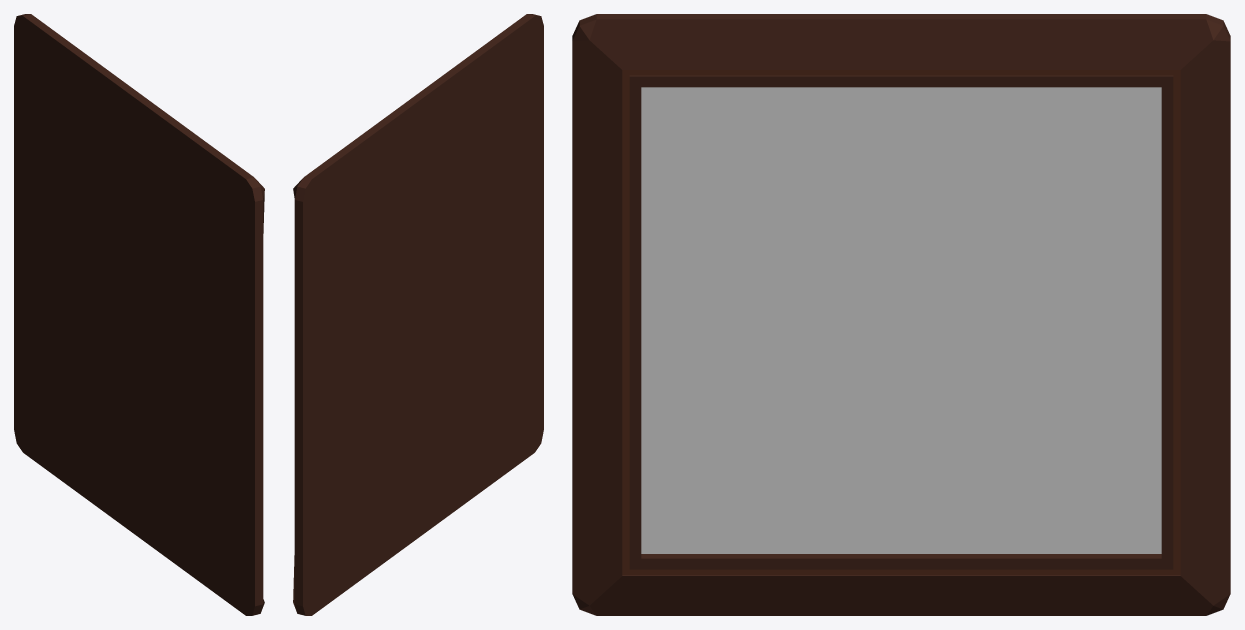
Rendered from Frame.fbx.
The picture shows the model from 3 angles, left to right: view 1: azimuth 30°, elevation 25°; view 2: azimuth 150°, elevation 25°; view 3: azimuth 270°, elevation 25°; orthographic projection. The views are drawn at different scales.
Visible parts, largest first — view 1: Cube; view 2: Cube; view 3: Cube.
Boxes of the visible parts, x1,y1,x2,y2 form: Cube: (14,14,264,615); Cube: (293,14,543,615); Cube: (572,14,1230,615).
Size of the model in its own units: 12.42 by 320 by 320.
